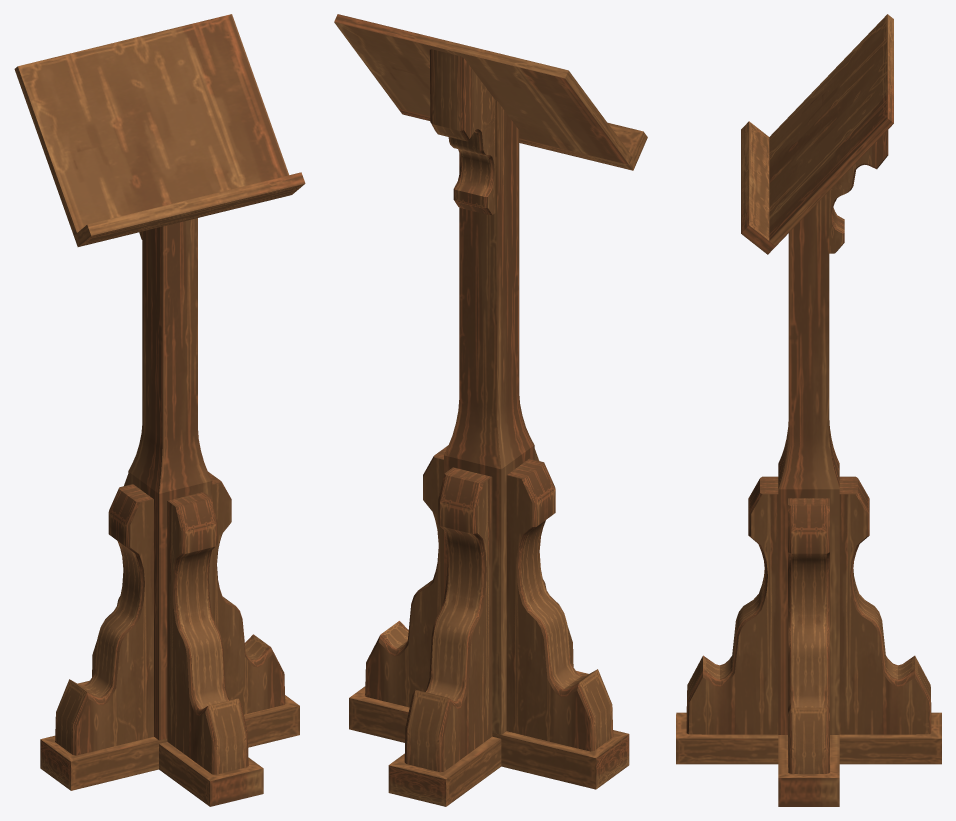
Rendered from BookStand.glb.
3 views of the same model, side by side, from view 1: azimuth 30°, elevation 25°; view 2: azimuth 150°, elevation 25°; view 3: azimuth 270°, elevation 25° (orthographic). The views are drawn at different scales.
Visible parts, largest first — view 1: BookStand; view 2: BookStand; view 3: BookStand.
Part boxes in pixels (<box>): BookStand: <box>14,14,305,806</box>; BookStand: <box>334,14,647,806</box>; BookStand: <box>676,14,941,806</box>.
Size of the model in its own units: 0.5071 by 1.45 by 0.5112.
Materials: 1 (1 with a texture image).
